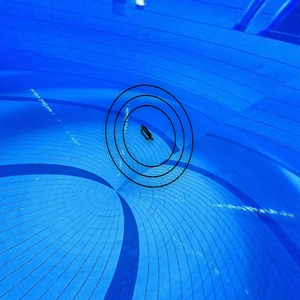circle: (102, 81, 200, 192)
submarine: (134, 123, 162, 146)
